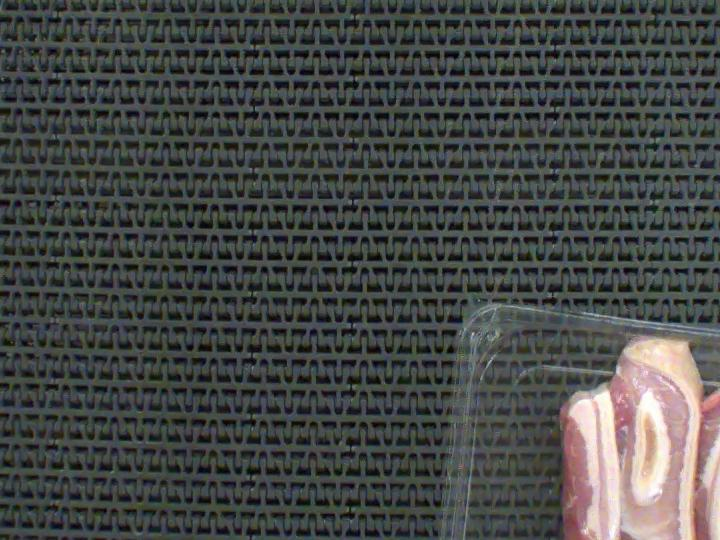packaging-error: (600, 293, 720, 392)
twisted-meat: (635, 425, 720, 540)
